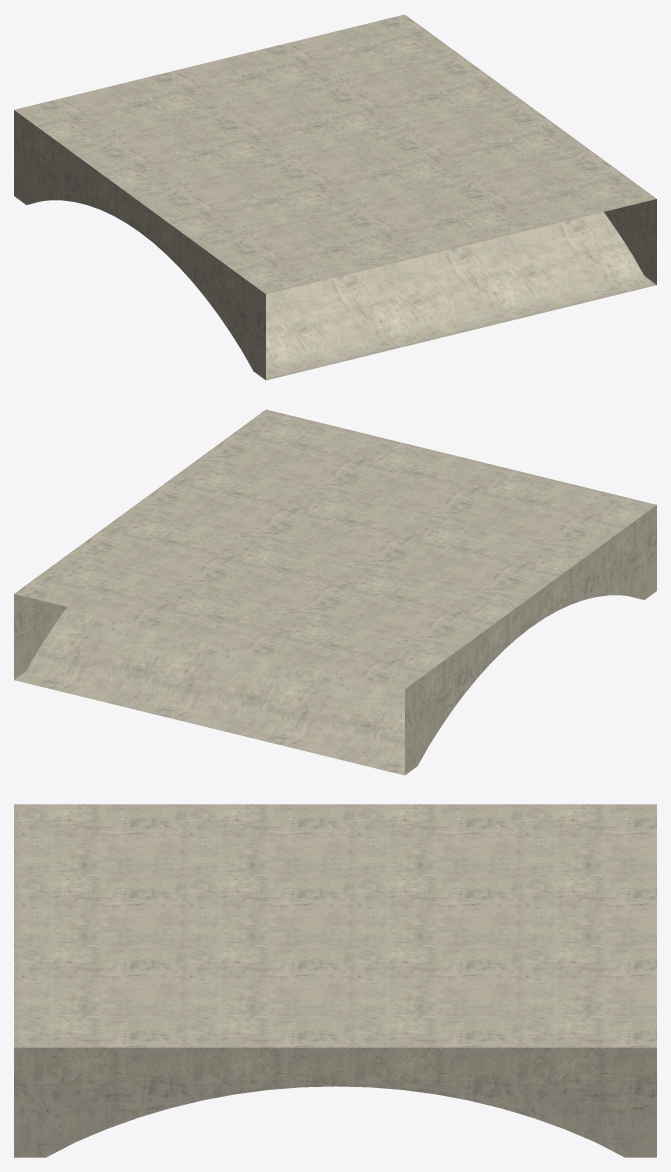
The model's file is BridgeBase7-2L.fbx.
3 renders of one model, top to bottom at view 1: azimuth 30°, elevation 25°; view 2: azimuth 150°, elevation 25°; view 3: azimuth 270°, elevation 25°, orthographic. The views are drawn at different scales.
Parts seen in each view (by area): view 1: BridgeBase7-2L; view 2: BridgeBase7-2L; view 3: BridgeBase7-2L.
Part boxes in pixels (x1,y1,x2,y2): BridgeBase7-2L: (14, 14, 656, 380); BridgeBase7-2L: (14, 409, 656, 775); BridgeBase7-2L: (14, 804, 656, 1157).
Size of the model in its own units: 18 by 3.79 by 20.1.
